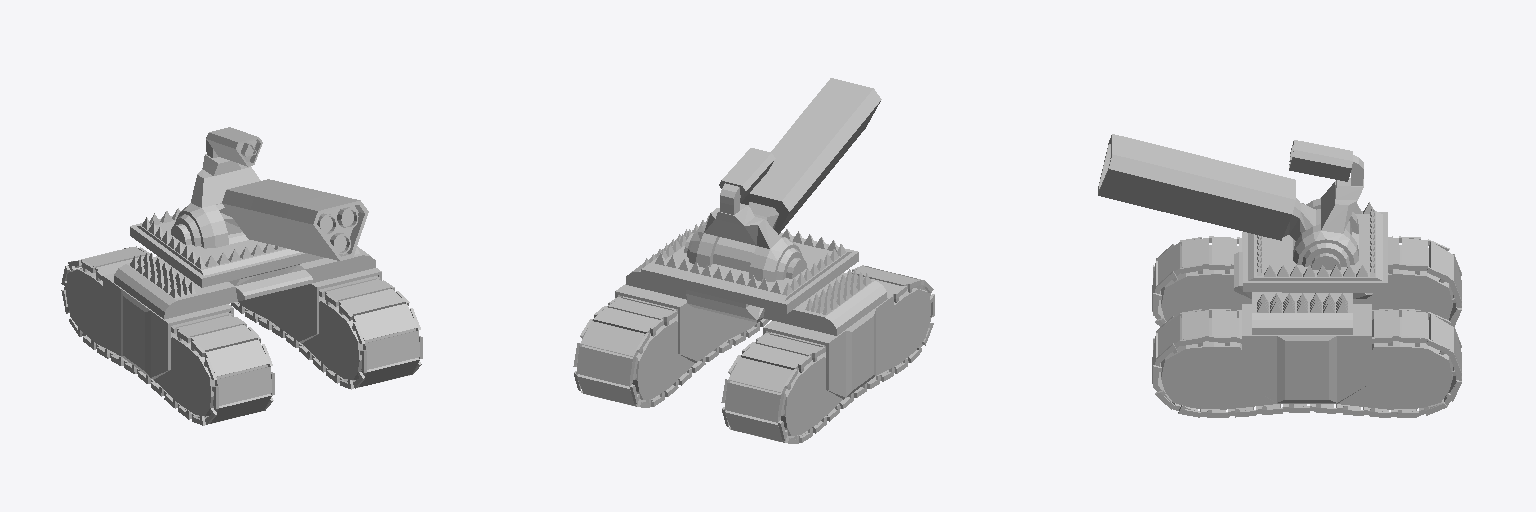
File: kaonov_walls_desintegrator.obj
3 renders of one model, left to right at view 1: azimuth 30°, elevation 25°; view 2: azimuth 150°, elevation 25°; view 3: azimuth 270°, elevation 25°, orthographic.
Parts seen in each view (by area): view 1: kaonov_walls_desintegrator_Cube.006; view 2: kaonov_walls_desintegrator_Cube.006; view 3: kaonov_walls_desintegrator_Cube.006.
Part boxes in pixels (x1,y1,x2,y2): kaonov_walls_desintegrator_Cube.006: (61,127,422,425); kaonov_walls_desintegrator_Cube.006: (573,78,934,443); kaonov_walls_desintegrator_Cube.006: (1098,134,1461,417).
Size of the model in its own units: 53.03 by 52.33 by 77.3.